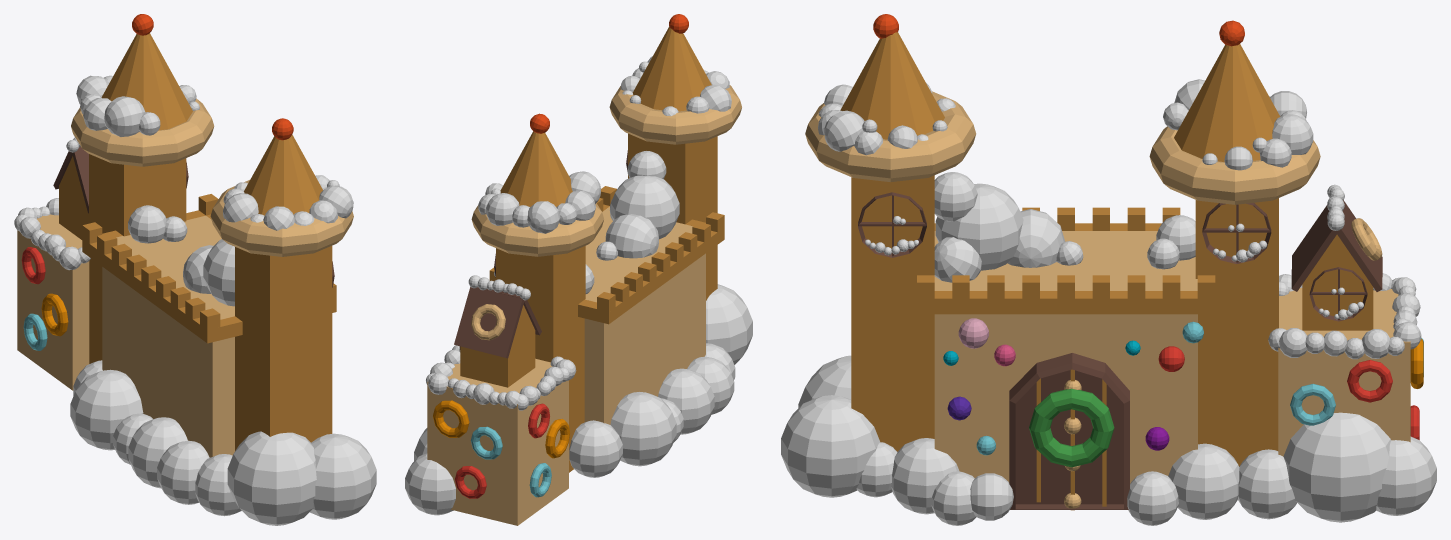
3 renders of one model, left to right at view 1: azimuth 30°, elevation 25°; view 2: azimuth 150°, elevation 25°; view 3: azimuth 270°, elevation 25°, orthographic. The views are drawn at different scales.
Visible parts, largest first — view 1: node_MeshObject-153491456-PolyPaper8, node_MeshObject418587648-PolyPaper21, node_MeshObject2082307072-PolyPaper21, node_MeshObject990666752-PolyPaper21; view 2: node_MeshObject-153491456-PolyPaper8, node_MeshObject418587648-PolyPaper21, node_MeshObject2082307072-PolyPaper21, node_MeshObject990666752-PolyPaper21; view 3: node_MeshObject-153491456-PolyPaper8, node_MeshObject418587648-PolyPaper21, node_MeshObject2082307072-PolyPaper21, node_MeshObject990666752-PolyPaper21.
Part boxes in pixels (box(x1,y1,x2,y2)): node_MeshObject-153491456-PolyPaper8: box(14, 154, 353, 457); node_MeshObject418587648-PolyPaper21: box(17, 33, 376, 525); node_MeshObject2082307072-PolyPaper21: box(39, 75, 322, 239); node_MeshObject990666752-PolyPaper21: box(71, 14, 214, 188); node_MeshObject-153491456-PolyPaper8: box(405, 68, 741, 515); node_MeshObject418587648-PolyPaper21: box(427, 14, 752, 525); node_MeshObject2082307072-PolyPaper21: box(414, 26, 711, 460); node_MeshObject990666752-PolyPaper21: box(471, 113, 604, 277); node_MeshObject-153491456-PolyPaper8: box(805, 84, 1436, 525); node_MeshObject418587648-PolyPaper21: box(781, 14, 1410, 525); node_MeshObject2082307072-PolyPaper21: box(840, 32, 1423, 522); node_MeshObject990666752-PolyPaper21: box(1149, 20, 1320, 263).
Size of the model in its own units: 1.19 by 2.39 by 2.99.
